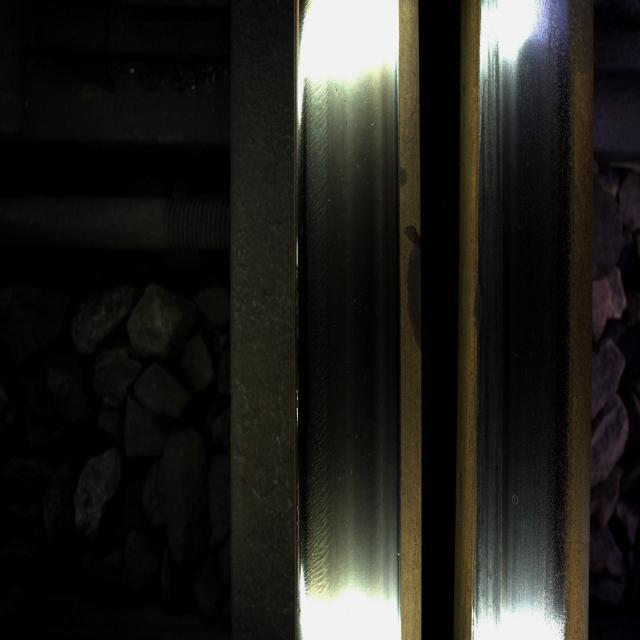break: (300, 86, 385, 526), (483, 95, 562, 497)
